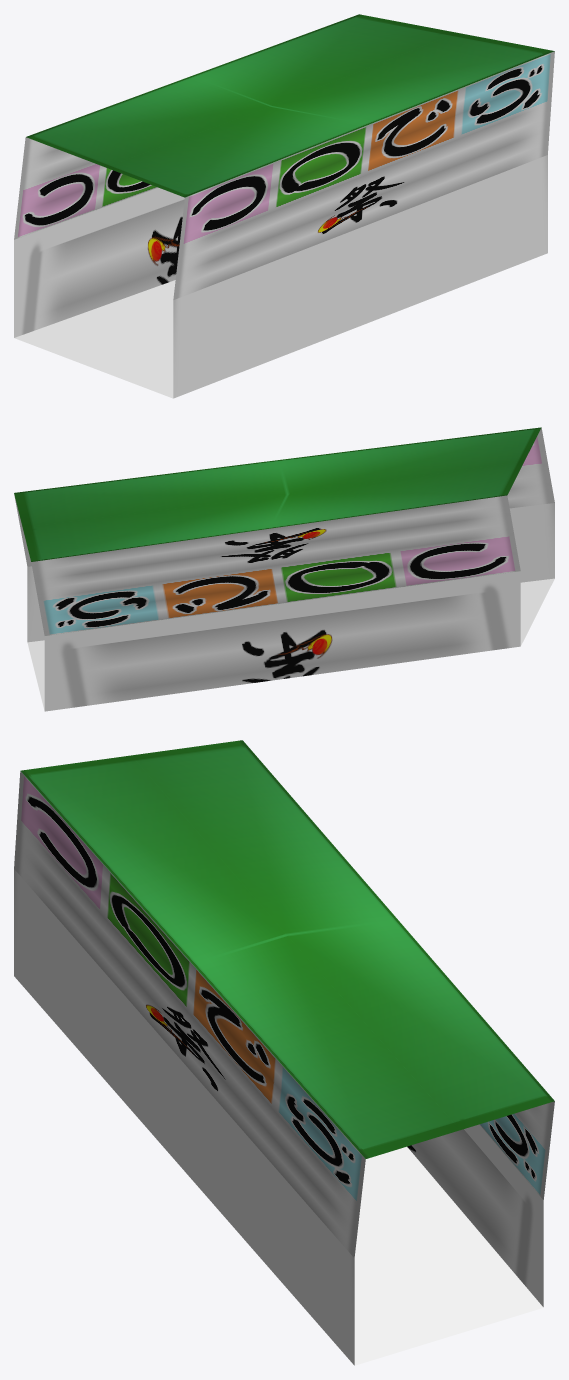
File: CourseAki_Wall_R_9_2.fbx
The picture shows the model from 3 angles, top to bottom: view 1: azimuth 30°, elevation 25°; view 2: azimuth 150°, elevation 25°; view 3: azimuth 270°, elevation 25°; orthographic projection. The views are drawn at different scales.
Visible parts, largest first — view 1: polySurface348; view 2: polySurface348; view 3: polySurface348.
Boxes of the visible parts, x1=… form: polySurface348: x1=14, y1=14, x2=554, y2=398; polySurface348: x1=14, y1=427, x2=554, y2=711; polySurface348: x1=14, y1=740, x2=554, y2=1365.
Size of the model in its own units: 6.39 by 2.99 by 4.57.
1 material, 1 textured.
